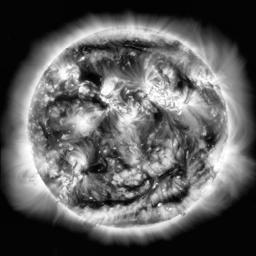solar flares: (155, 85, 191, 114), (66, 112, 98, 136), (83, 204, 132, 219), (54, 63, 84, 81), (110, 31, 151, 42), (102, 77, 120, 102), (114, 108, 136, 128), (190, 71, 214, 89), (66, 148, 91, 163), (142, 74, 156, 95), (79, 81, 95, 98)
sunspots: (85, 40, 149, 53), (82, 195, 137, 206), (38, 119, 65, 140), (79, 64, 102, 88), (199, 131, 218, 154), (89, 151, 109, 171), (159, 193, 192, 204), (54, 94, 83, 106), (145, 109, 161, 130), (117, 53, 138, 69), (165, 164, 187, 178), (173, 72, 190, 90), (142, 137, 152, 159), (124, 182, 149, 190), (100, 119, 114, 132), (116, 152, 132, 163)
